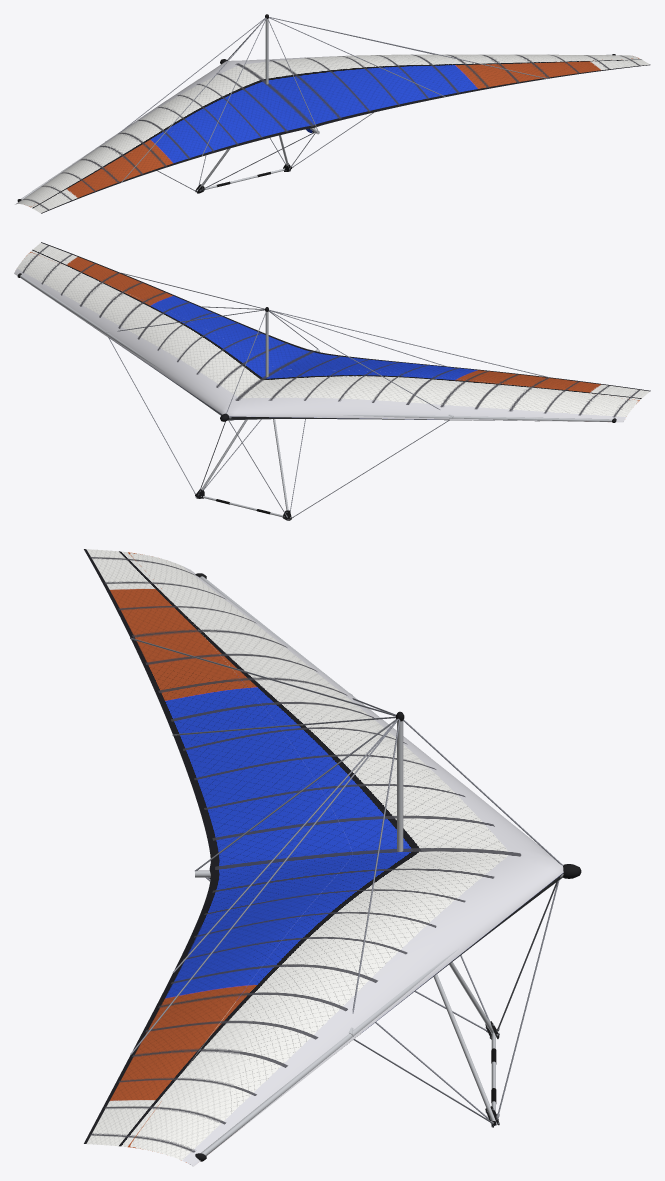
File: glider_ww_eagle.glb
3 views of the same model, one above another, from view 1: azimuth 30°, elevation 25°; view 2: azimuth 150°, elevation 25°; view 3: azimuth 270°, elevation 25° (orthographic). The views are drawn at different scales.
Parts seen in each view (by area): view 1: Sail, Frame, ControlFrame; view 2: Sail, Frame, ControlFrame; view 3: Sail, Frame, ControlFrame.
Part boxes in pixels (left/top/right/bottom): Sail: left=15, top=54, right=650, bottom=213; Frame: left=17, top=14, right=615, bottom=201; ControlFrame: left=157, top=112, right=373, bottom=193; Sail: left=14, top=242, right=650, bottom=422; Frame: left=17, top=272, right=616, bottom=422; ControlFrame: left=108, top=338, right=449, bottom=520; Sail: left=84, top=549, right=563, bottom=1166; Frame: left=130, top=573, right=581, bottom=1161; ControlFrame: left=205, top=877, right=559, bottom=1127.
Bounding box in the file's own units: 9.75 × 2.84 × 3.45.
8 materials, 1 textured.
